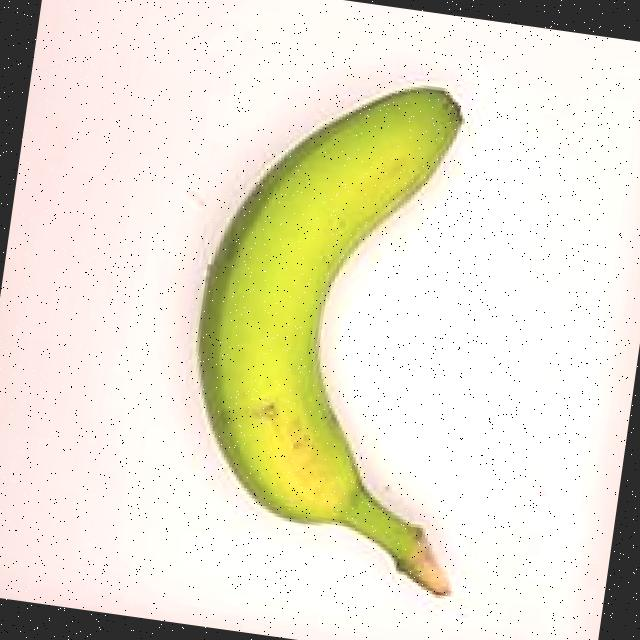Unripe: (124, 39, 568, 622)
